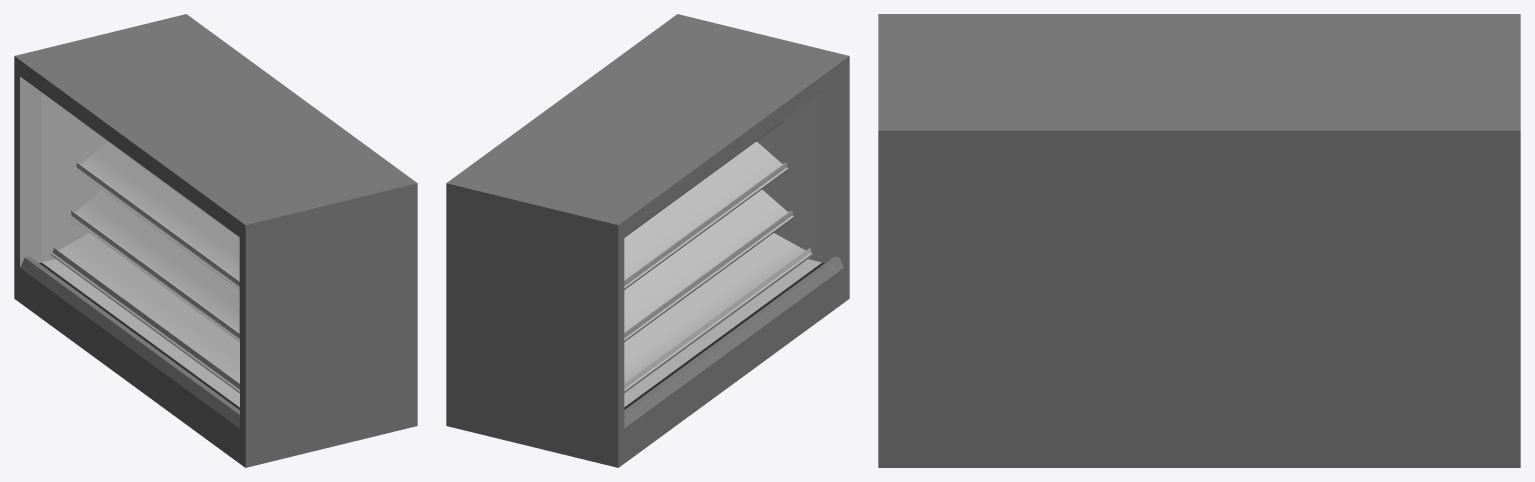
The model's file is WallFreezer.fbx.
The picture shows the model from 3 angles, left to right: view 1: azimuth 30°, elevation 25°; view 2: azimuth 150°, elevation 25°; view 3: azimuth 270°, elevation 25°; orthographic projection. The views are drawn at different scales.
Parts seen in each view (by area): view 1: WallFreezer; view 2: WallFreezer; view 3: WallFreezer.
Part boxes in pixels (box(x1,y1,x2,y2)): WallFreezer: box(14, 14, 417, 467); WallFreezer: box(446, 14, 849, 467); WallFreezer: box(878, 14, 1520, 467).
Size of the model in its own units: 158 by 213 by 367.
